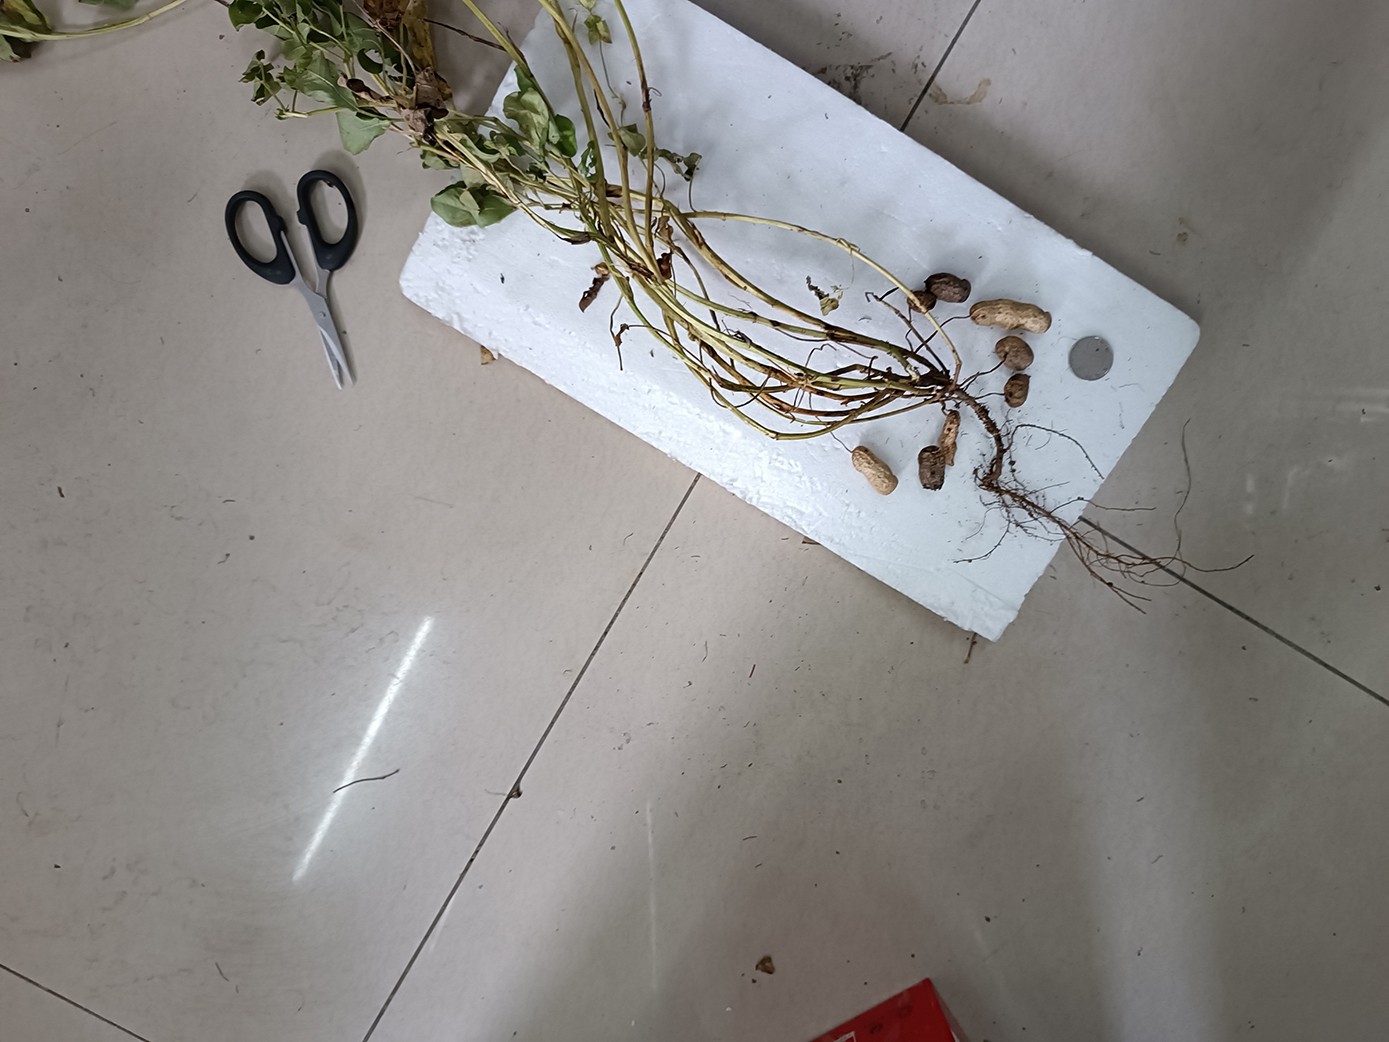h: (971, 298, 1053, 334), (850, 447, 899, 496)
l: (925, 271, 971, 302), (916, 444, 946, 491), (995, 335, 1035, 369), (938, 412, 962, 467), (1004, 373, 1029, 407), (907, 291, 936, 312)
